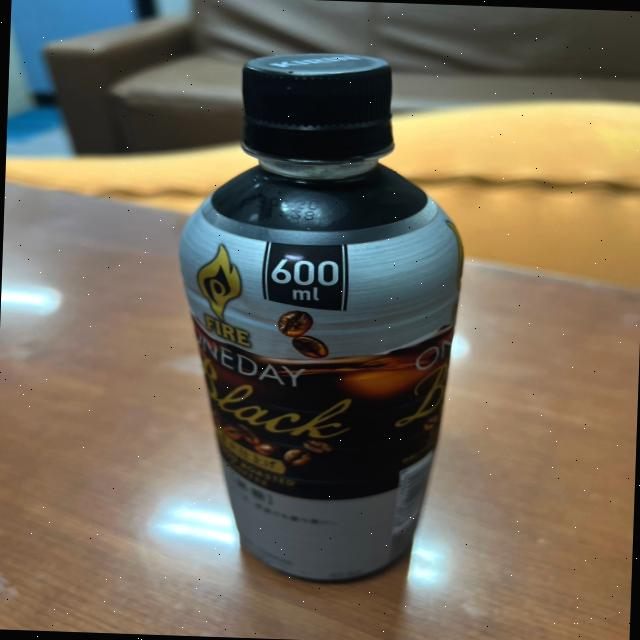coffee-black: (165, 44, 476, 581)
